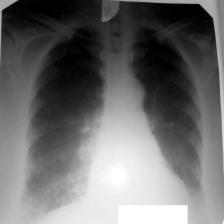tuberculosis: (12, 15, 213, 224)
